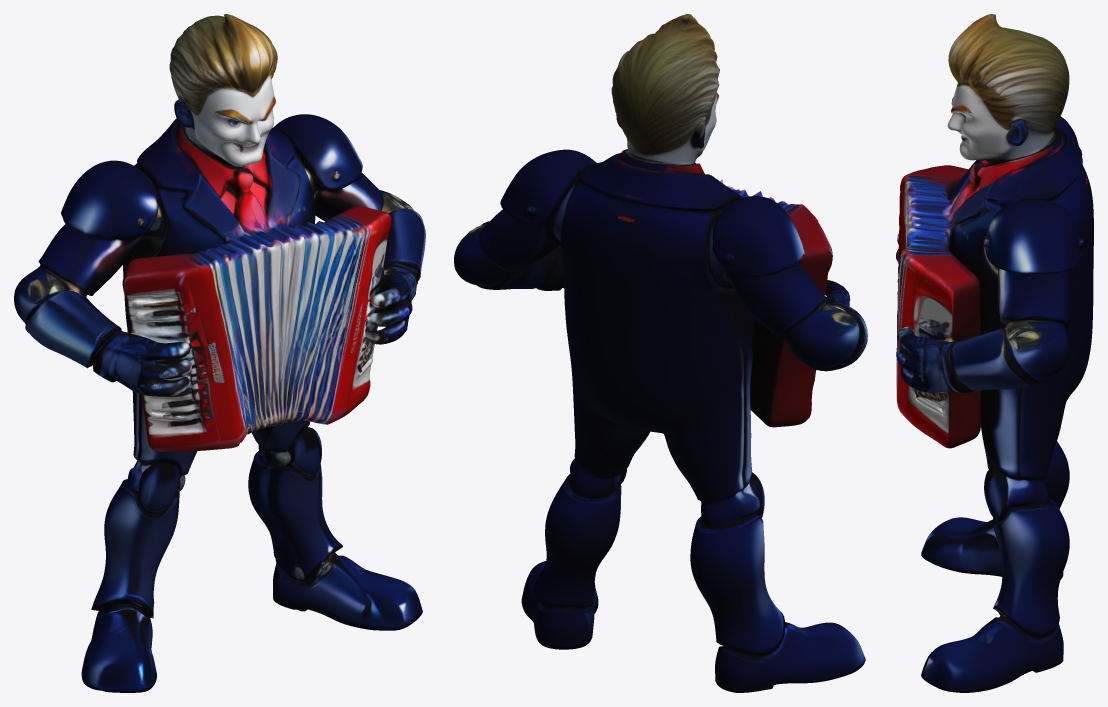
File: base_basic_pbr.glb
The picture shows the model from 3 angles, left to right: view 1: azimuth 30°, elevation 25°; view 2: azimuth 150°, elevation 25°; view 3: azimuth 270°, elevation 25°; orthographic projection. The views are drawn at different scales.
Parts seen in each view (by area): view 1: model; view 2: model; view 3: model.
Boxes of the visible parts, x1=… form: model: x1=14, y1=14, x2=425, y2=692; model: x1=454, y1=14, x2=867, y2=692; model: x1=896, y1=14, x2=1093, y2=692.
Size of the model in its own units: 1.13 by 1.71 by 0.5102.
Materials: 1 (1 with a texture image).
